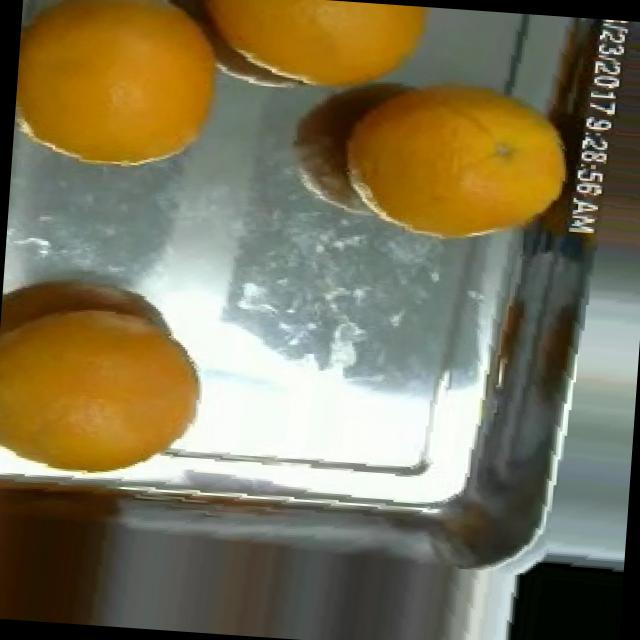Fruit: (493, 543, 624, 640)
